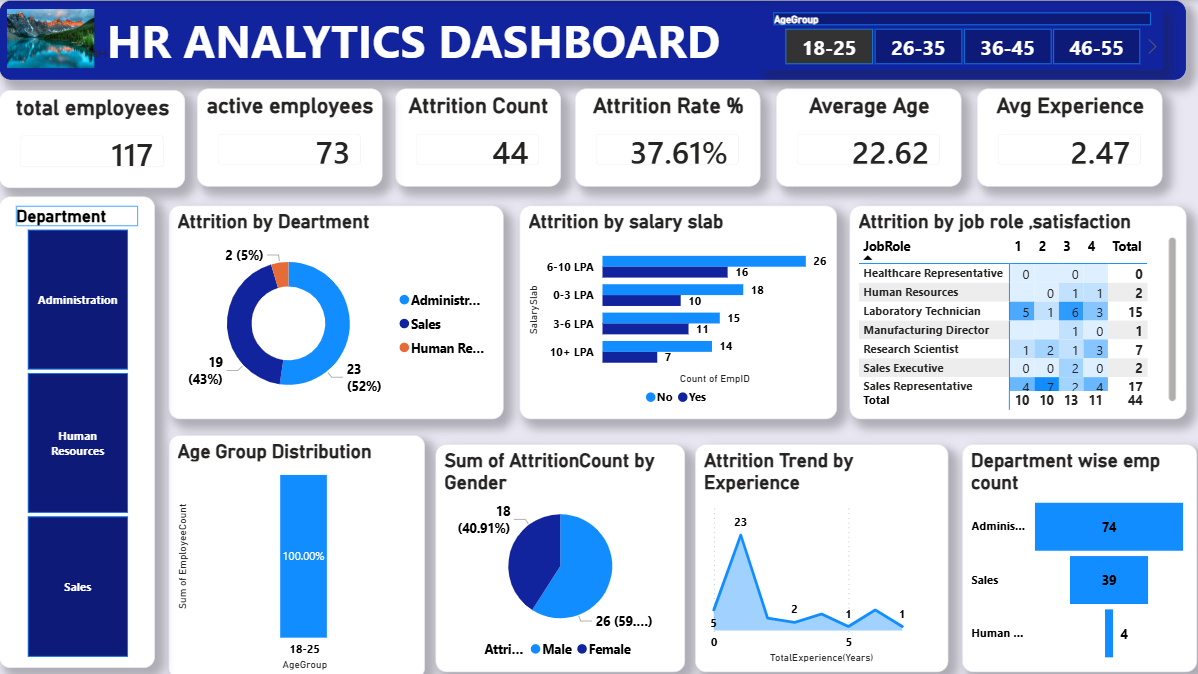

This screenshot's page, from the dashboard's own definition file:
{"tool":"powerbi","page":{"name":"hranalysis_project","canvas":[1280,720],"ordinal":0},"visuals":[{"type":"textbox","box":[10,0,1259,85],"z":0},{"type":"image","box":[0,9.4,128.5,62.4],"z":1000},{"type":"cardVisual","title":"total  employees","fields":{"Data":["CountNonNull(HR_Analytics-4.EmpID)"]},"box":[10,95,197,104],"z":2000},{"type":"cardVisual","title":"Attrition Count","fields":{"Data":["Sum(HR_Analytics-4.AttritionCount)"]},"box":[429,94.5,175.7,103.9],"z":3000},{"type":"cardVisual","title":"Attrition Rate %","fields":{"Data":["HR_Analytics-4.Attrition Rate %"]},"box":[619.8,94.5,196.5,103.9],"z":4000},{"type":"cardVisual","title":"Average Age","fields":{"Data":["Avg(HR_Analytics-4.Age)"]},"box":[833.4,94.5,196.5,103.9],"z":5000},{"type":"cardVisual","title":"active employees","fields":{"Data":["CountNonNull(HR_Analytics-4.EmployeeCount)"]},"box":[219.2,94.5,196.5,103.9],"z":6000},{"type":"cardVisual","title":"Avg Experience","fields":{"Data":["Avg(HR_Analytics-4.YearsatCompany)"]},"box":[1046.9,94.5,196.5,103.9],"z":7000},{"type":"donutChart","title":"Attrition by Deartment","fields":{"Category":["HR_Analytics-4.Department"],"Y":["Sum(HR_Analytics-4.AttritionCount)"]},"box":[189,217.3,355.3,226.8],"z":8000},{"type":"clusteredBarChart","title":"Attrition by salary slab","fields":{"Category":["HR_Analytics-4.SalarySlab"],"Y":["CountNonNull(HR_Analytics-4.EmpID)"],"Series":["HR_Analytics-4.Attrition"]},"box":[561.3,217.3,336.4,226.8],"z":9000},{"type":"pivotTable","title":"Attrition by job role ,satisfaction","fields":{"Values":["Sum(HR_Analytics-4.AttritionCount)"],"Rows":["HR_Analytics-4.JobRole"],"Columns":["HR_Analytics-4.JobSatisfaction"]},"box":[910.9,217.3,357.2,226.8],"z":10000},{"type":"hundredPercentStackedColumnChart","title":"Age Group Distribution","fields":{"Category":["HR_Analytics-4.AgeGroup"],"Y":["Sum(HR_Analytics-4.EmployeeCount)"]},"box":[189,461.1,272.1,258.9],"z":11000},{"type":"pieChart","fields":{"Category":["HR_Analytics-4.Gender"],"Y":["Sum(HR_Analytics-4.AttritionCount)"]},"box":[472.4,470.6,264.6,241.9],"z":12000},{"type":"areaChart","title":"Attrition Trend by Experience","fields":{"Category":["HR_Analytics-4.TotalExperience(Years)"],"Y2":["Sum(HR_Analytics-4.AttritionCount)"]},"box":[748.4,470.6,268.3,241.9],"z":13000},{"type":"funnel","title":"Department wise emp  count","fields":{"Category":["HR_Analytics-4.Department"],"Y":["CountNonNull(HR_Analytics-4.EmpID)"]},"box":[1029.9,470.6,249.5,241.9],"z":14000},{"type":"slicer","fields":{"Values":["HR_Analytics-4.Department"]},"box":[9,209,165,500],"z":15000},{"type":"slicer","fields":{"Values":["HR_Analytics-4.AgeGroup"]},"box":[817.6,8,426.3,66.8],"z":16000}]}

Visuals, with their boxes in screenshot pixels (x1, y1, x2, y2), scaled from the page's 1280x720 canvas onto the 1198x674 screenshot:
textbox: box(9, 0, 1188, 80)
image: box(0, 9, 120, 67)
"total  employees" cardVisual: box(9, 89, 194, 186)
"Attrition Count" cardVisual: box(402, 88, 566, 186)
"Attrition Rate %" cardVisual: box(580, 88, 764, 186)
"Average Age" cardVisual: box(780, 88, 964, 186)
"active employees" cardVisual: box(205, 88, 389, 186)
"Avg Experience" cardVisual: box(980, 88, 1164, 186)
"Attrition by Deartment" donutChart: box(177, 203, 509, 416)
"Attrition by salary slab" clusteredBarChart: box(525, 203, 840, 416)
"Attrition by job role ,satisfaction" pivotTable: box(853, 203, 1187, 416)
"Age Group Distribution" hundredPercentStackedColumnChart: box(177, 432, 432, 673)
pieChart - HR_Analytics-4.Gender x Sum(HR_Analytics-4.AttritionCount): box(442, 441, 690, 667)
"Attrition Trend by Experience" areaChart: box(700, 441, 952, 667)
"Department wise emp  count" funnel: box(964, 441, 1197, 667)
slicer - HR_Analytics-4.Department: box(8, 196, 163, 664)
slicer - HR_Analytics-4.AgeGroup: box(765, 7, 1164, 70)
